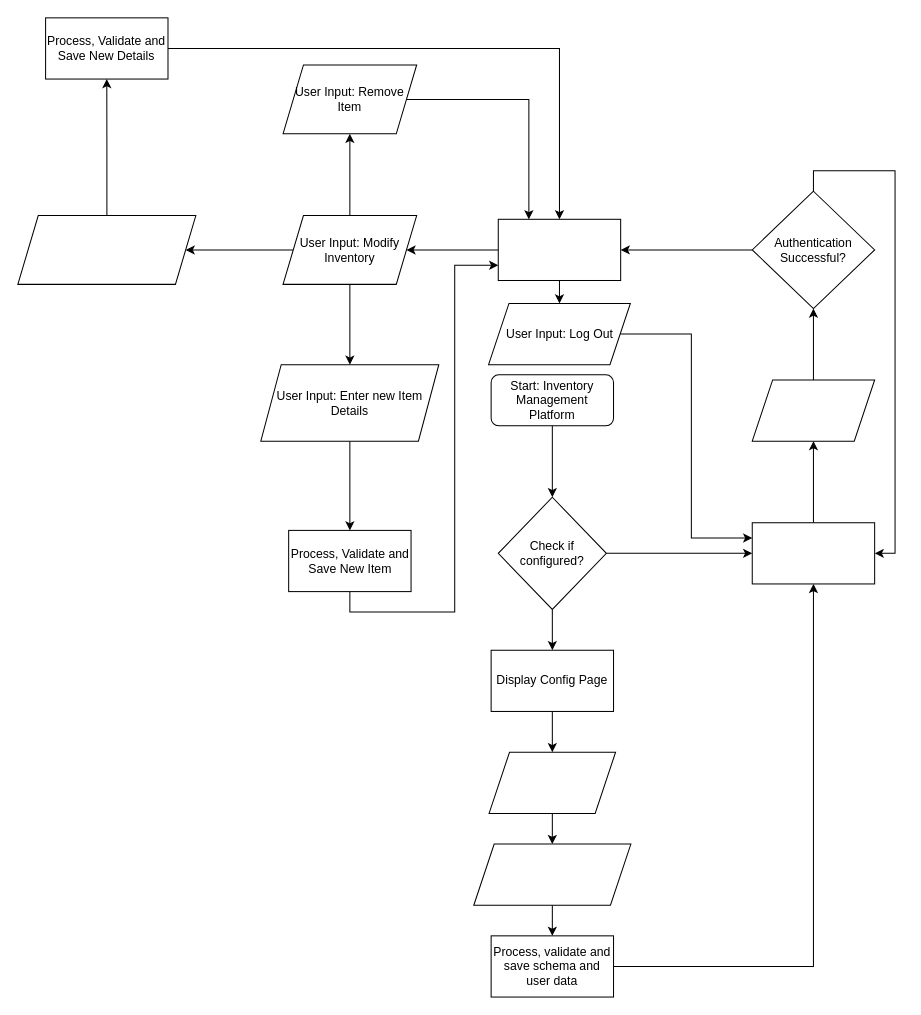
Image size: 921x1015. Some labels were removed from this diagram. Each missing label, with the centre of its shape:
"Render Home Page (read and write)" belongs at point 559,249.
"Render Home Page (read only)" belongs at point 813,553.
"User Input: Create Inventory Schema" belongs at point 552,782.
"User Input: Create User Data Table" belongs at point 552,874.
"User Input: Edit Item Details" belongs at point 106,249.
"User Input: Login Credentials" belongs at point 813,410.
